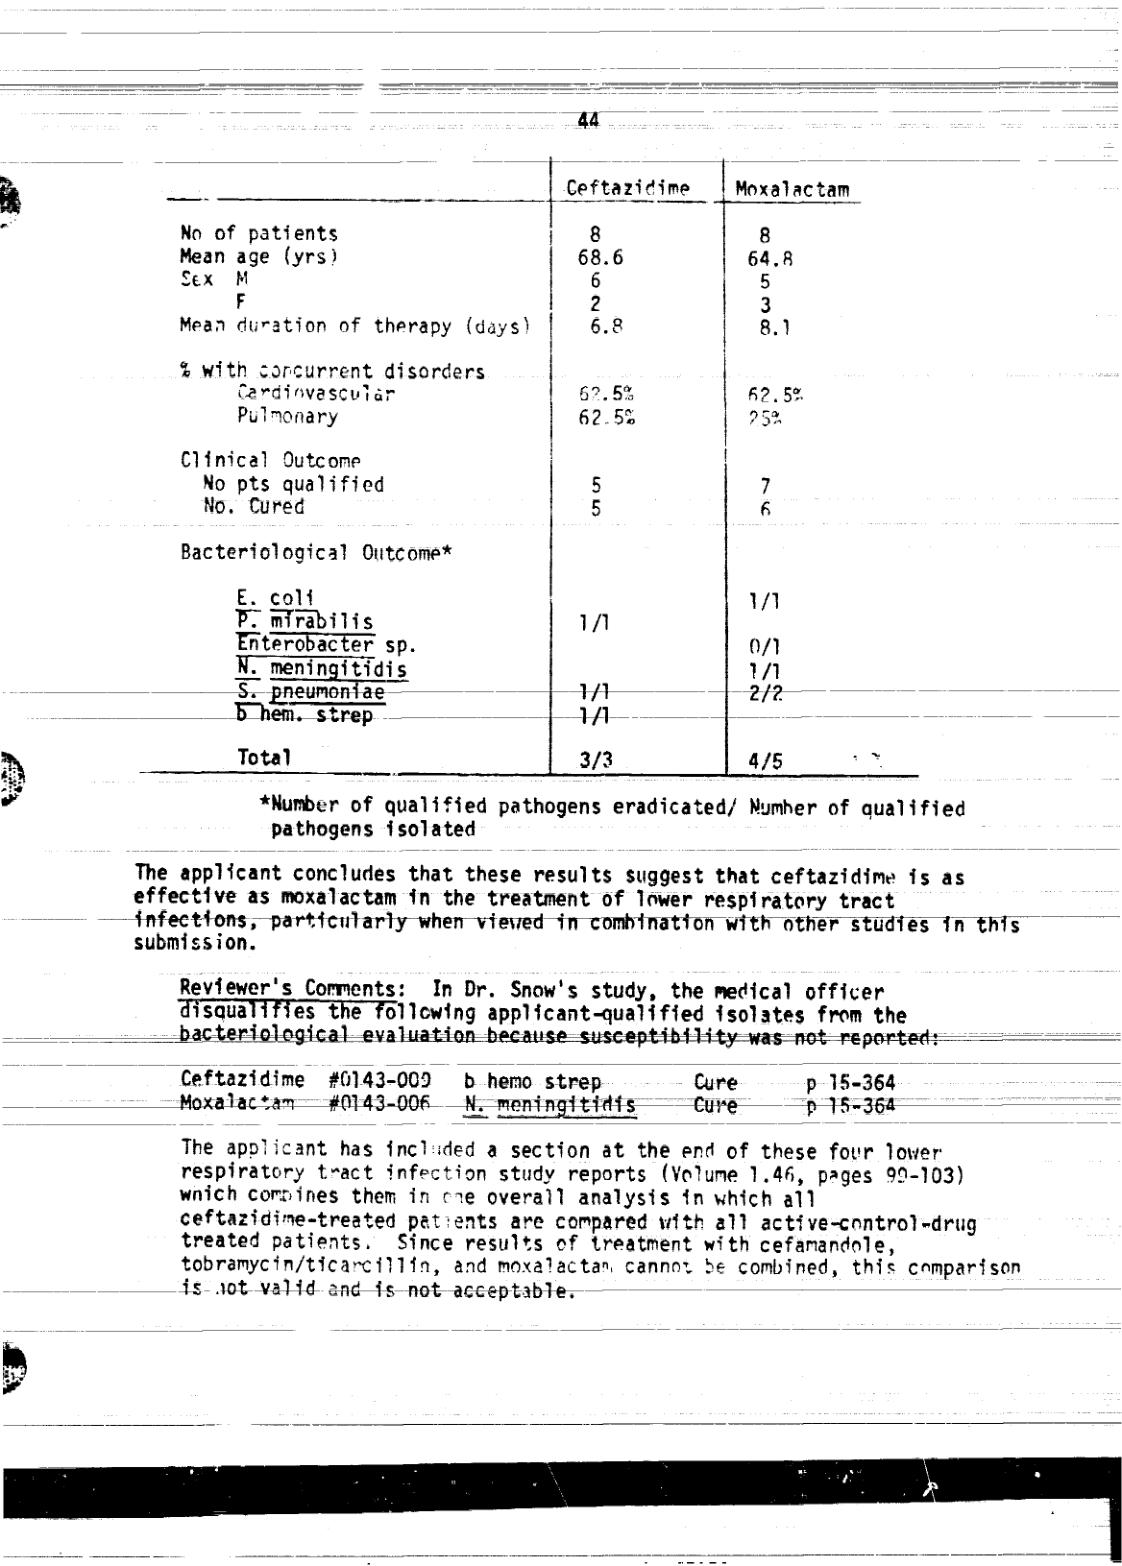partial_lined: (132, 157, 933, 781)
